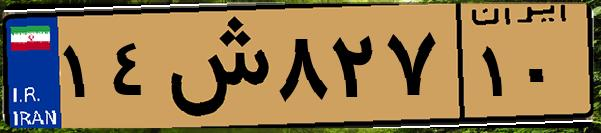0: (525, 38, 570, 115)
1: (57, 26, 110, 100), (475, 38, 525, 113)
2: (330, 28, 385, 110)
4: (110, 28, 158, 98)
7: (385, 28, 445, 110)
8: (270, 28, 330, 110)
ش: (158, 12, 270, 120)
